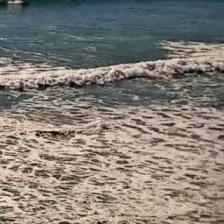surfer: (18, 0, 26, 2)
